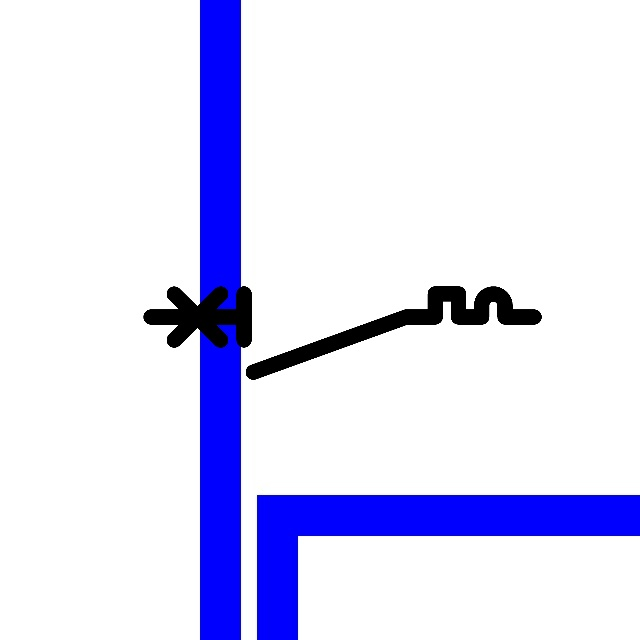interruptor_termomagnetico: (141, 284, 544, 382)
